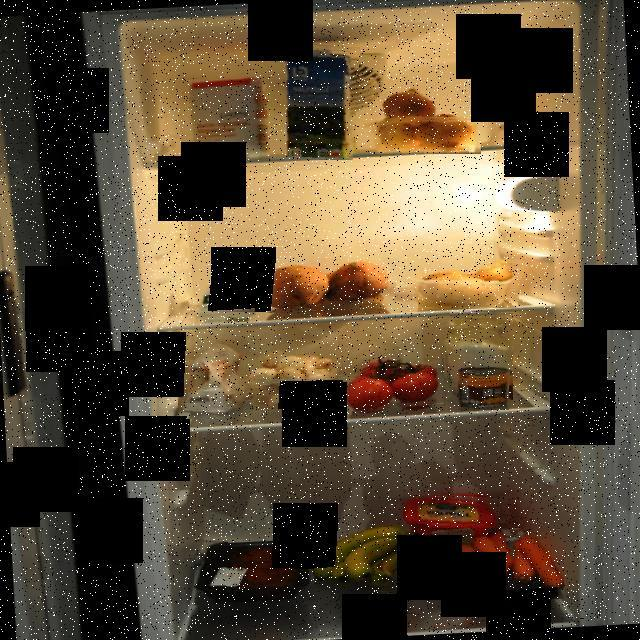banana: (313, 524, 428, 594)
beef: (194, 538, 316, 606)
butter: (399, 490, 500, 560)
carrot: (429, 528, 564, 607)
corn: (458, 364, 510, 410)
flour: (178, 339, 262, 419)
goat_cheese: (194, 280, 258, 316)
milk: (285, 42, 360, 160)
mushrooms: (250, 344, 346, 410)
onion: (363, 82, 481, 154)
potato: (418, 257, 522, 308)
sugar: (189, 77, 270, 162), (438, 310, 513, 400)
sweet_potato: (259, 258, 399, 314)
tomato: (343, 358, 444, 414)
